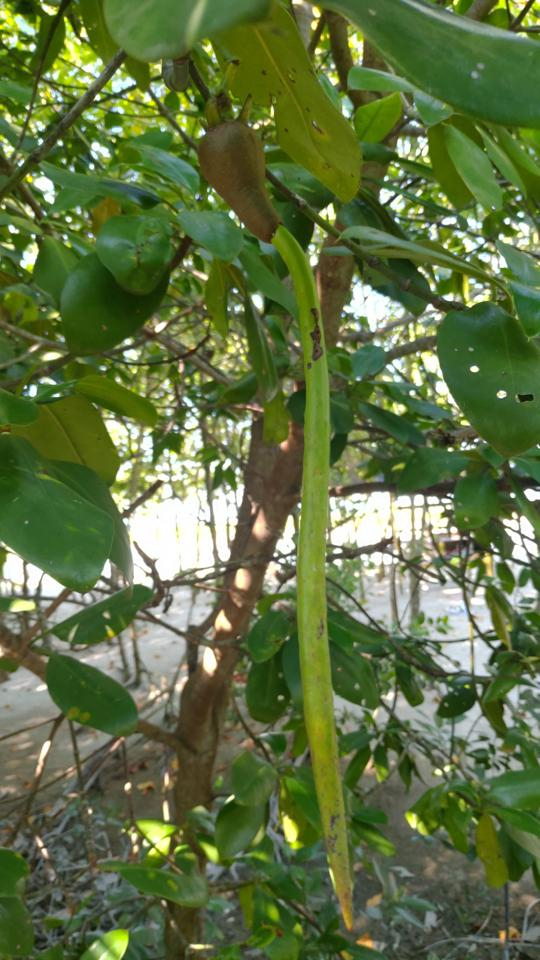mentah: (171, 82, 371, 938)
